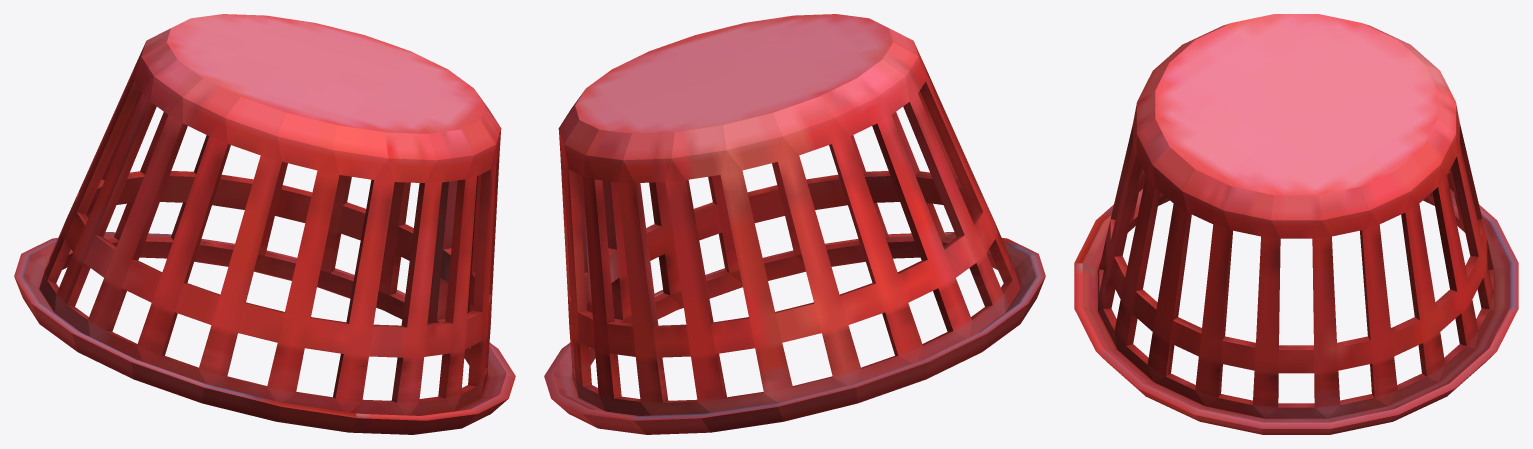
File: RED LAUNDRY BASKET.fbx
3 renders of one model, left to right at view 1: azimuth 30°, elevation 25°; view 2: azimuth 150°, elevation 25°; view 3: azimuth 270°, elevation 25°, orthographic. The views are drawn at different scales.
Visible parts, largest first — view 1: RED_LAUNDRY_BASKET; view 2: RED_LAUNDRY_BASKET; view 3: RED_LAUNDRY_BASKET.
Boxes of the visible parts, x1,y1,x2,y2 form: RED_LAUNDRY_BASKET: (14,14,515,434); RED_LAUNDRY_BASKET: (544,14,1045,434); RED_LAUNDRY_BASKET: (1074,14,1518,434).
Size of the model in its own units: 40.57 by 31.83 by 42.
